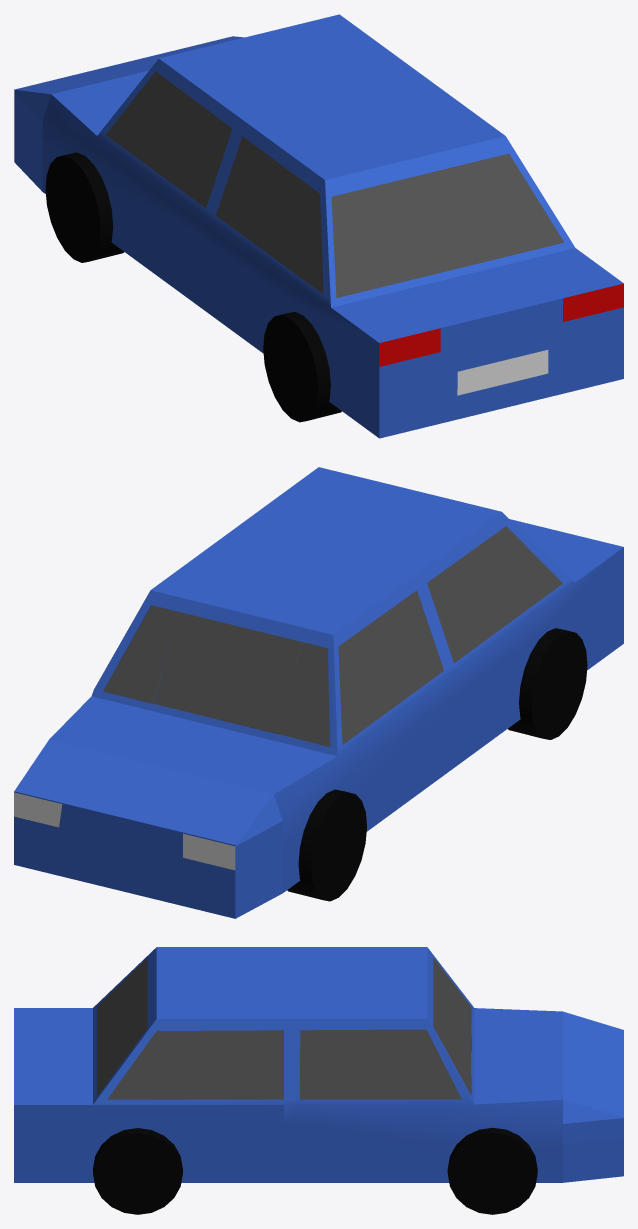
File: carBlue.fbx
3 renders of one model, top to bottom at view 1: azimuth 30°, elevation 25°; view 2: azimuth 150°, elevation 25°; view 3: azimuth 270°, elevation 25°, orthographic. The views are drawn at different scales.
Visible parts, largest first — view 1: pasted__pCube1, pasted__pasted__pCylinder1, pasted__pCylinder1; view 2: pasted__pCube1, pasted__pCylinder1, pasted__pasted__pCylinder1; view 3: pasted__pCube1, pasted__pasted__pasted__pCylinder1, pasted__pasted__pasted__pasted__pCylinder1.
Part boxes in pixels (box(x1,y1,x2,y2)): pasted__pCube1: box(14, 14, 623, 438); pasted__pasted__pCylinder1: box(45, 152, 123, 262); pasted__pCylinder1: box(263, 312, 341, 422); pasted__pCube1: box(14, 467, 623, 918); pasted__pCylinder1: box(508, 628, 587, 739); pasted__pasted__pCylinder1: box(287, 789, 366, 901); pasted__pCube1: box(14, 947, 623, 1182); pasted__pasted__pasted__pCylinder1: box(447, 1127, 537, 1214); pasted__pasted__pasted__pasted__pCylinder1: box(93, 1128, 182, 1214).
Size of the model in its own units: 4.3 by 3.32 by 10.29.
